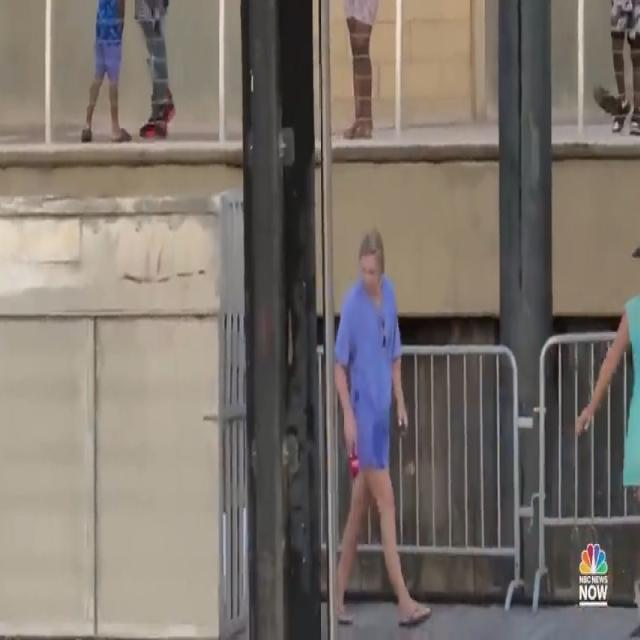non-fight: (329, 218, 439, 640)
